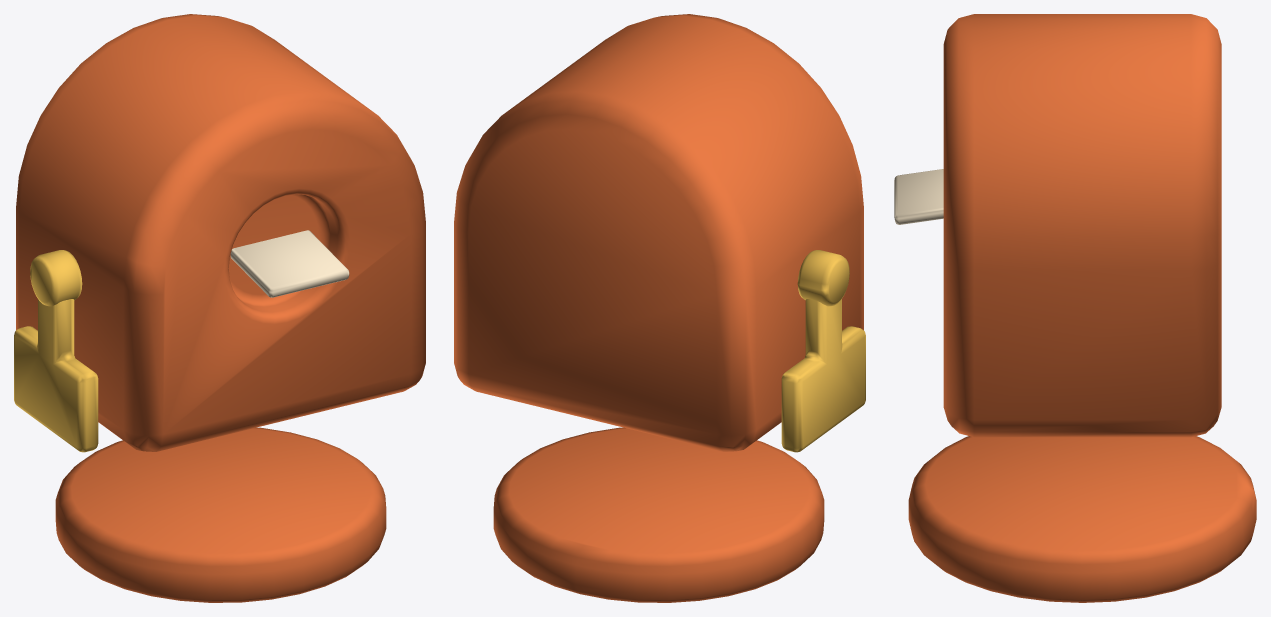
The model's file is mailbox_draco_webp.glb.
3 views of the same model, side by side, from view 1: azimuth 30°, elevation 25°; view 2: azimuth 150°, elevation 25°; view 3: azimuth 270°, elevation 25° (orthographic). The views are drawn at different scales.
Visible parts, largest first — view 1: Mailbox_Body, Mailbox_Flag, Mailbox_Letter; view 2: Mailbox_Body, Mailbox_Flag; view 3: Mailbox_Body, Mailbox_Letter.
Part boxes in pixels (x1,y1,x2,y2): Mailbox_Body: (16,14,425,602); Mailbox_Flag: (14,250,98,452); Mailbox_Letter: (230,230,349,297); Mailbox_Body: (454,14,863,602); Mailbox_Flag: (781,250,865,452); Mailbox_Body: (908,14,1256,602); Mailbox_Letter: (894,169,943,224).
Bounding box in the file's own units: 0.2865 × 0.4 × 0.2603.
